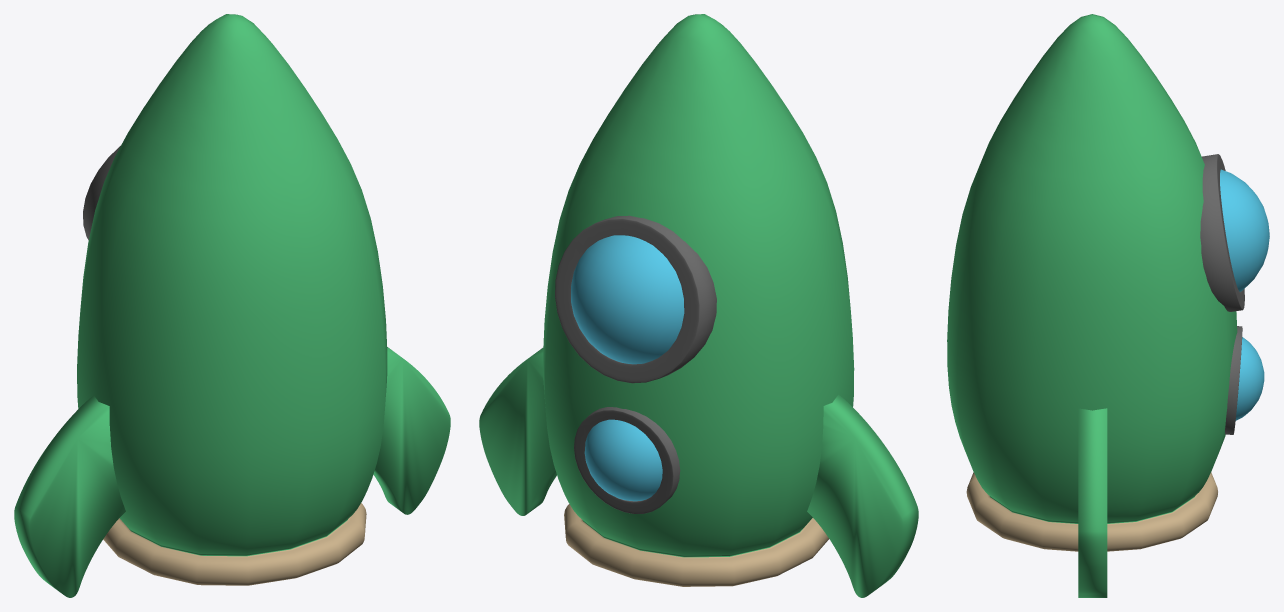
The model's file is Ship Light Green.fbx.
3 views of the same model, side by side, from view 1: azimuth 30°, elevation 25°; view 2: azimuth 150°, elevation 25°; view 3: azimuth 270°, elevation 25° (orthographic). The views are drawn at different scales.
Visible parts, largest first — view 1: Body, Fin2, Fin1, Window Cover; view 2: Body, Fin2, Glass Window, Window Cover, Fin1, Glass Window.001, Window Cover.001; view 3: Body, Fin1, Glass Window, Window Cover, Glass Window.001, Window Cover.001.
Part boxes in pixels (x1,y1,x2,y2): Body: (77, 14, 387, 585); Fin2: (14, 395, 125, 597); Fin1: (373, 347, 450, 514); Window Cover: (83, 145, 120, 239); Body: (543, 14, 854, 586); Fin2: (807, 394, 918, 597); Glass Window: (571, 235, 684, 364); Window Cover: (555, 215, 716, 383); Fin1: (479, 348, 556, 515); Glass Window.001: (584, 419, 662, 501); Window Cover.001: (574, 407, 680, 513); Body: (947, 14, 1237, 551); Fin1: (1078, 408, 1107, 597); Glass Window: (1220, 169, 1269, 291); Window Cover: (1200, 154, 1244, 311); Glass Window.001: (1235, 337, 1264, 420); Window Cover.001: (1225, 326, 1242, 434).
Size of the model in its own units: 318 by 387 by 224.
